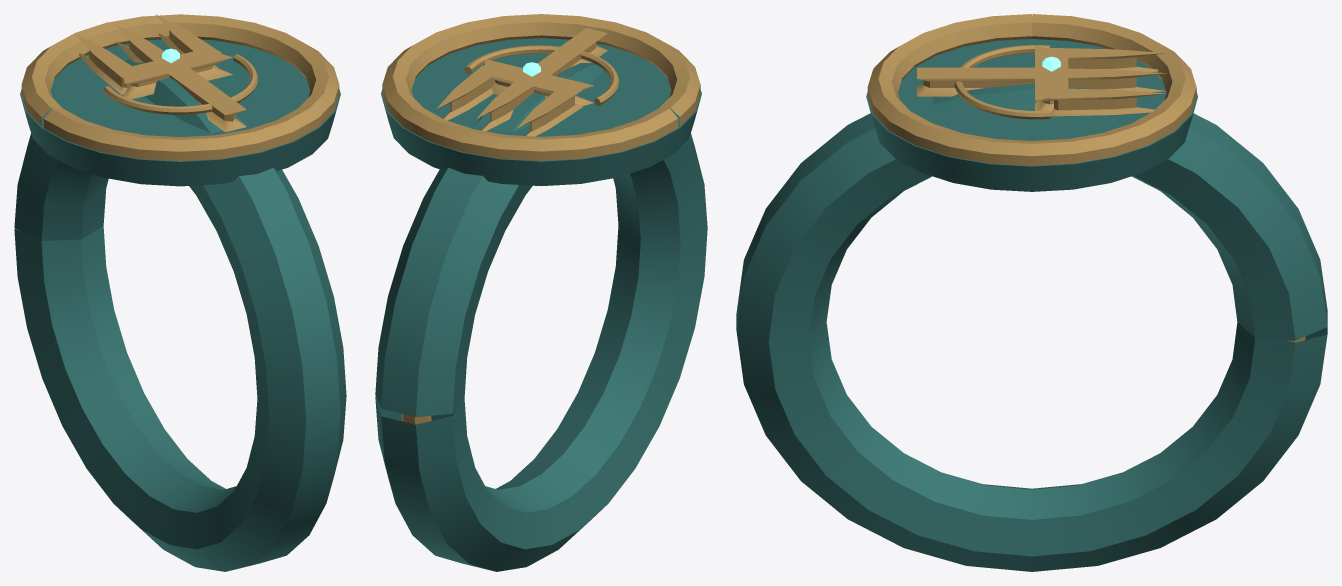
File: boss_sunken_crown_accessory_2.glb
3 views of the same model, side by side, from view 1: azimuth 30°, elevation 25°; view 2: azimuth 150°, elevation 25°; view 3: azimuth 270°, elevation 25° (orthographic). The views are drawn at different scales.
Parts seen in each view (by area): view 1: boss_sunken_crown_accessory_2; view 2: boss_sunken_crown_accessory_2; view 3: boss_sunken_crown_accessory_2.
Boxes of the visible parts, bbox=[...] form: boss_sunken_crown_accessory_2: bbox=[14, 14, 346, 571]; boss_sunken_crown_accessory_2: bbox=[375, 14, 707, 571]; boss_sunken_crown_accessory_2: bbox=[736, 14, 1327, 571].
Bounding box in the file's own units: 0.084 × 0.1411 × 0.1496.
